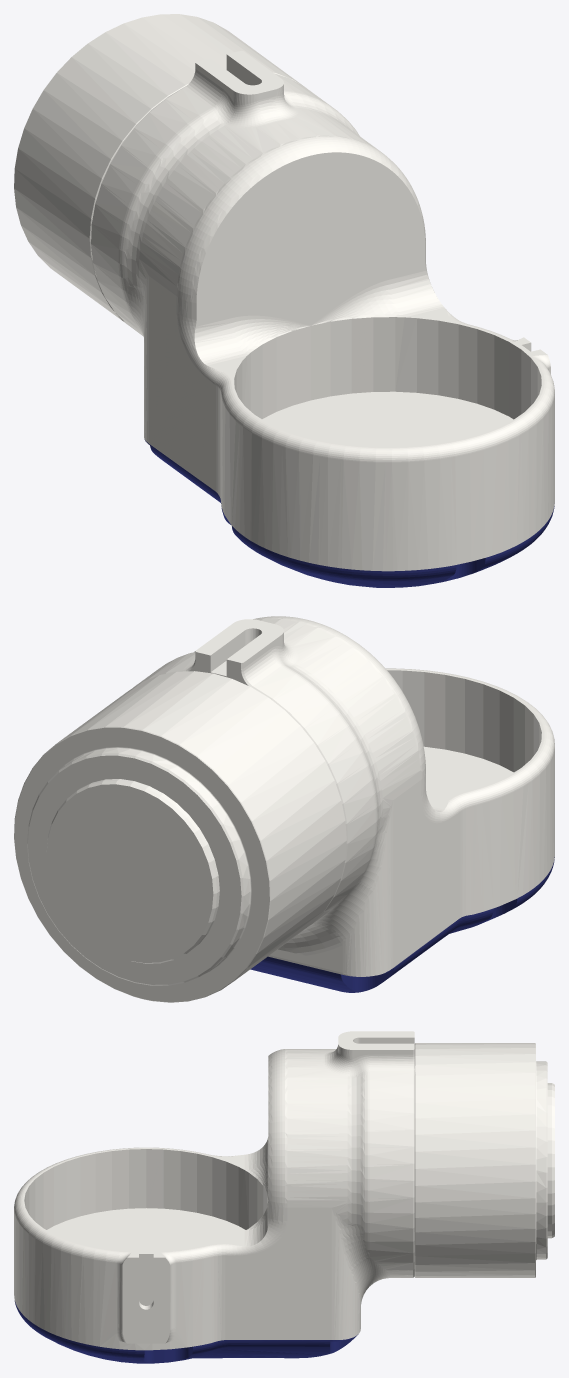
3 renders of one model, top to bottom at view 1: azimuth 30°, elevation 25°; view 2: azimuth 150°, elevation 25°; view 3: azimuth 270°, elevation 25°, orthographic. The views are drawn at different scales.
Parts seen in each view (by area): view 1: Link_B; view 2: Link_B; view 3: Link_B.
Part boxes in pixels (box(x1,y1,x2,y2)): Link_B: box(14, 14, 554, 587); Link_B: box(14, 616, 554, 1002); Link_B: box(14, 1031, 554, 1363).
Bounding box in the file's own units: 0.091 × 0.184 × 0.114.
1 material, 1 textured.
